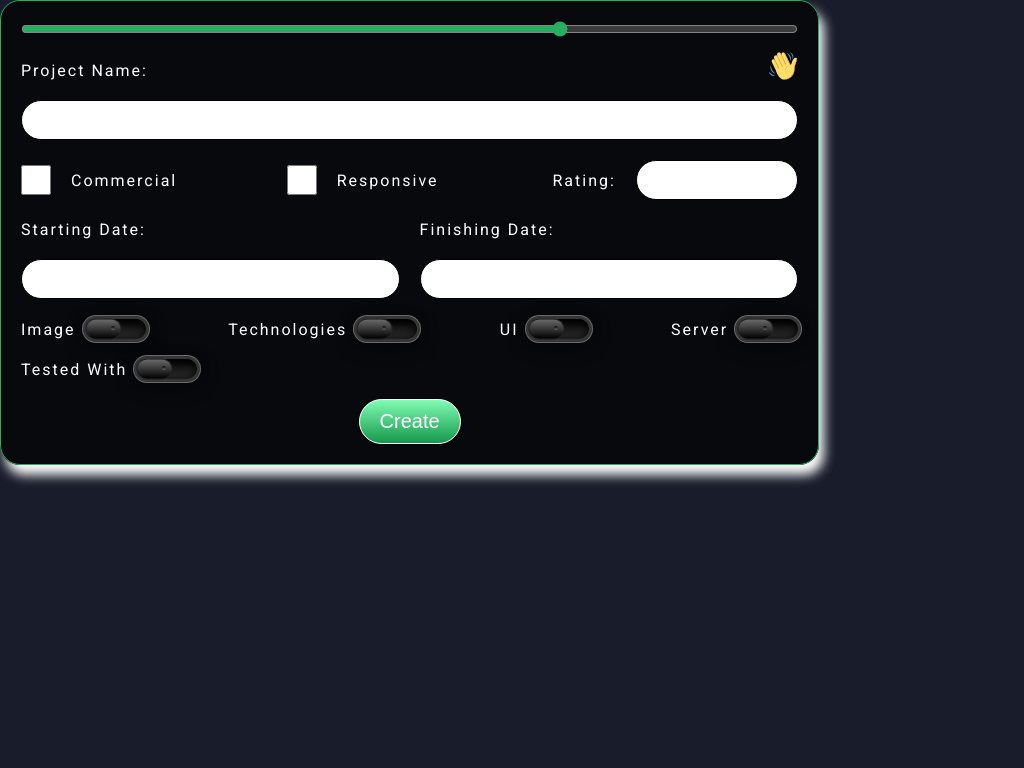
Project Form › Render › should render the img fieldset after clicking on the img switch btn
This screenshot has width=1024, height=768.
Expected: the text "drag & drop your project image here" is not shown
# testing the swtich label
Click the text "Image".
click(48, 329)  # box [21,320,76,338]
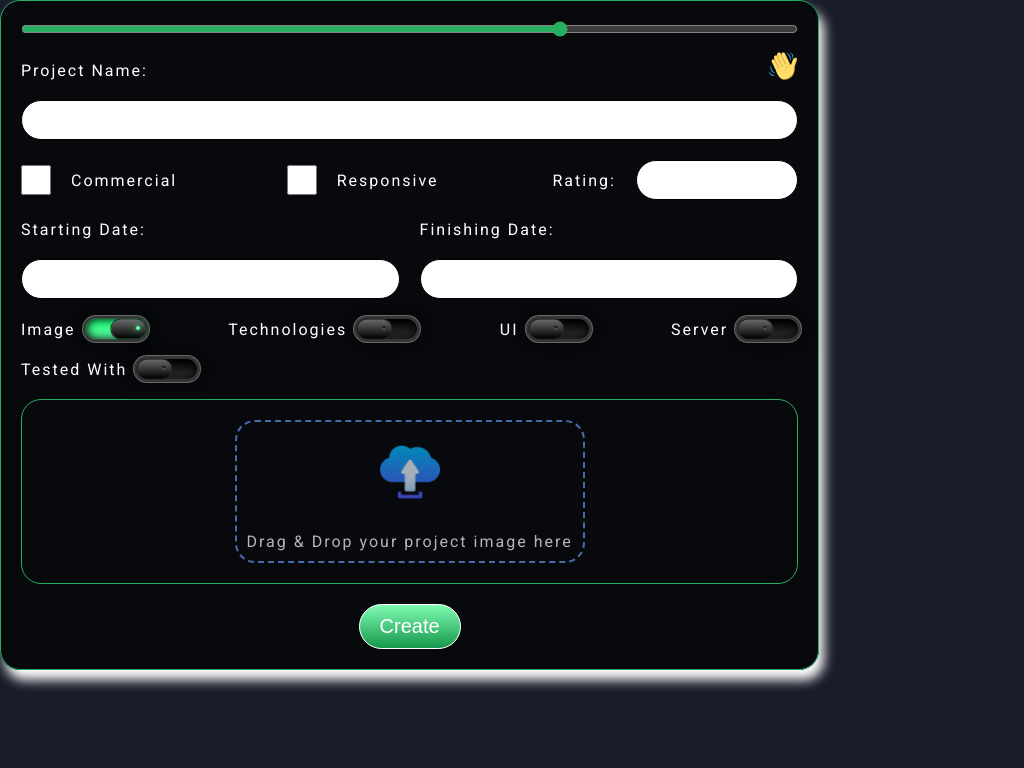
Now the file field with test id "drop-box" is shown, box [235,420,585,563]
Now the picture named "upload" is shown, box [360,422,460,522]
Now the text "Drag & Drop your project image here" is shown, box [237,532,583,551]
# testing the swtich
Click the checkbox labelled "Image".
click(116, 329)  # box [86,319,146,339]
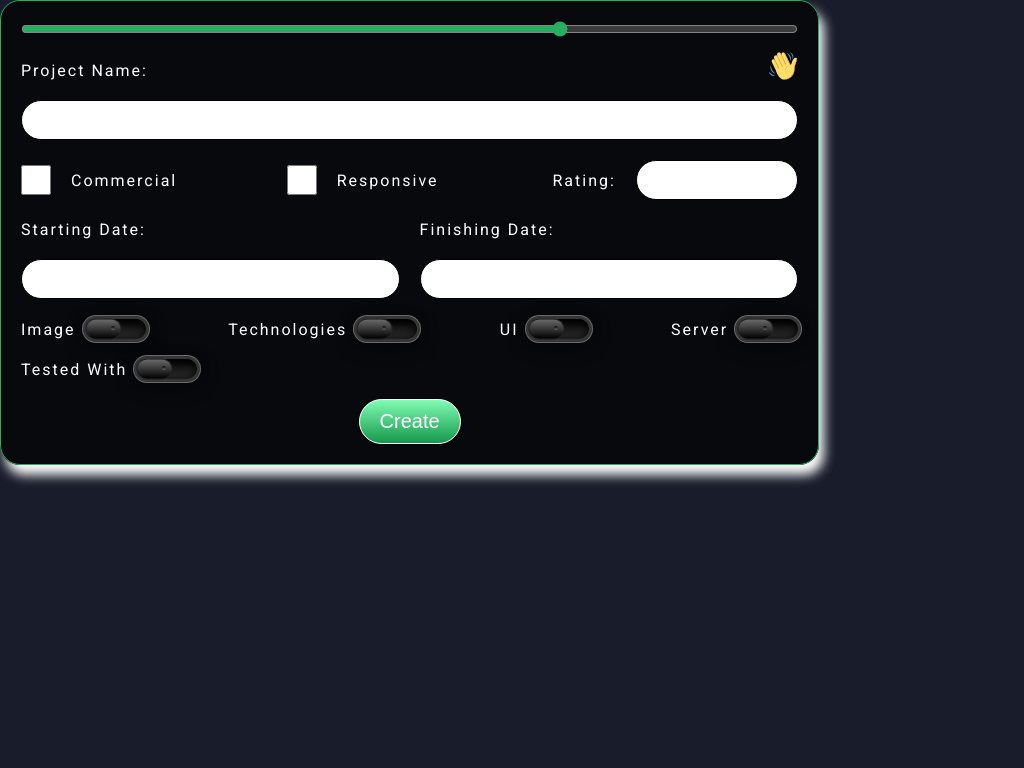
Now the picture "upload" is gone
Now the text "Drag & Drop your project image here" is gone
